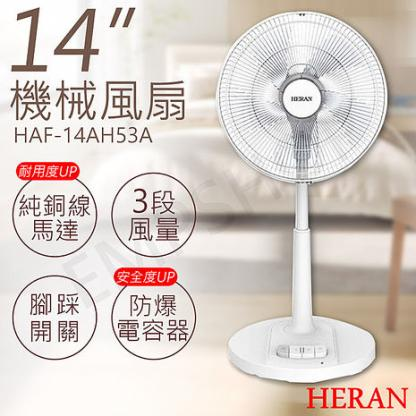fan: (210, 7, 389, 385)
